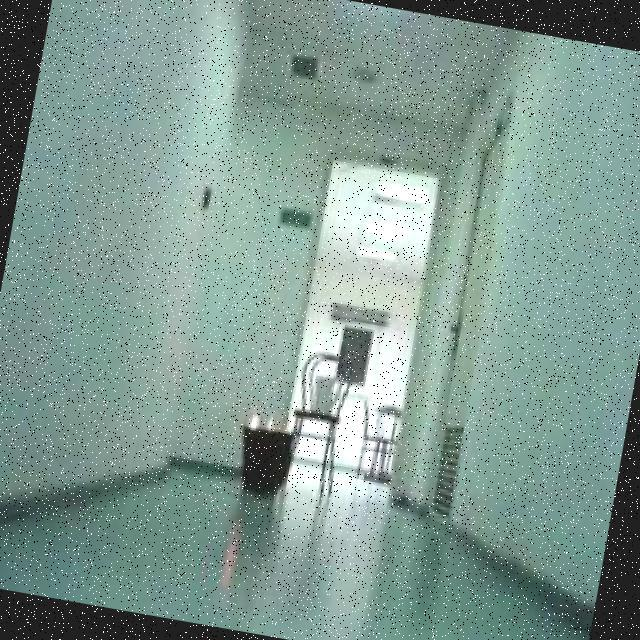Fire: (243, 408, 276, 431)
